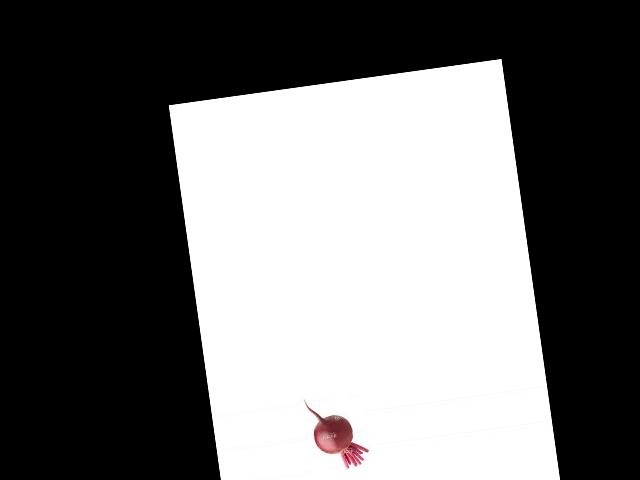beet: (303, 392, 371, 473)
